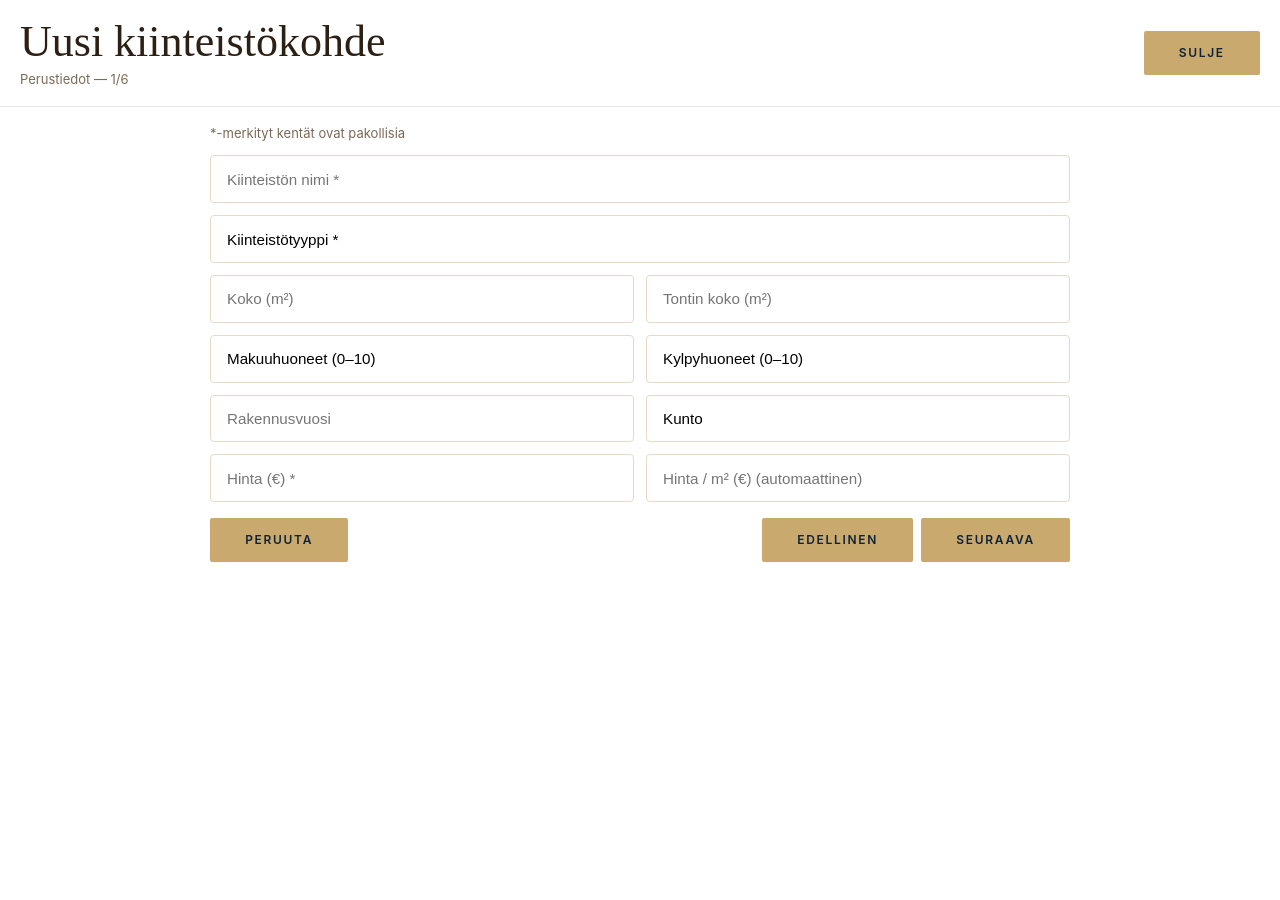
Test case: ListingWizard › auto-calculates price per m² from price and size
Step 1. Type "50" into the field with placeholder "Koko (m²)" → (422, 299), box x1=210 y1=275 x2=634 y2=323
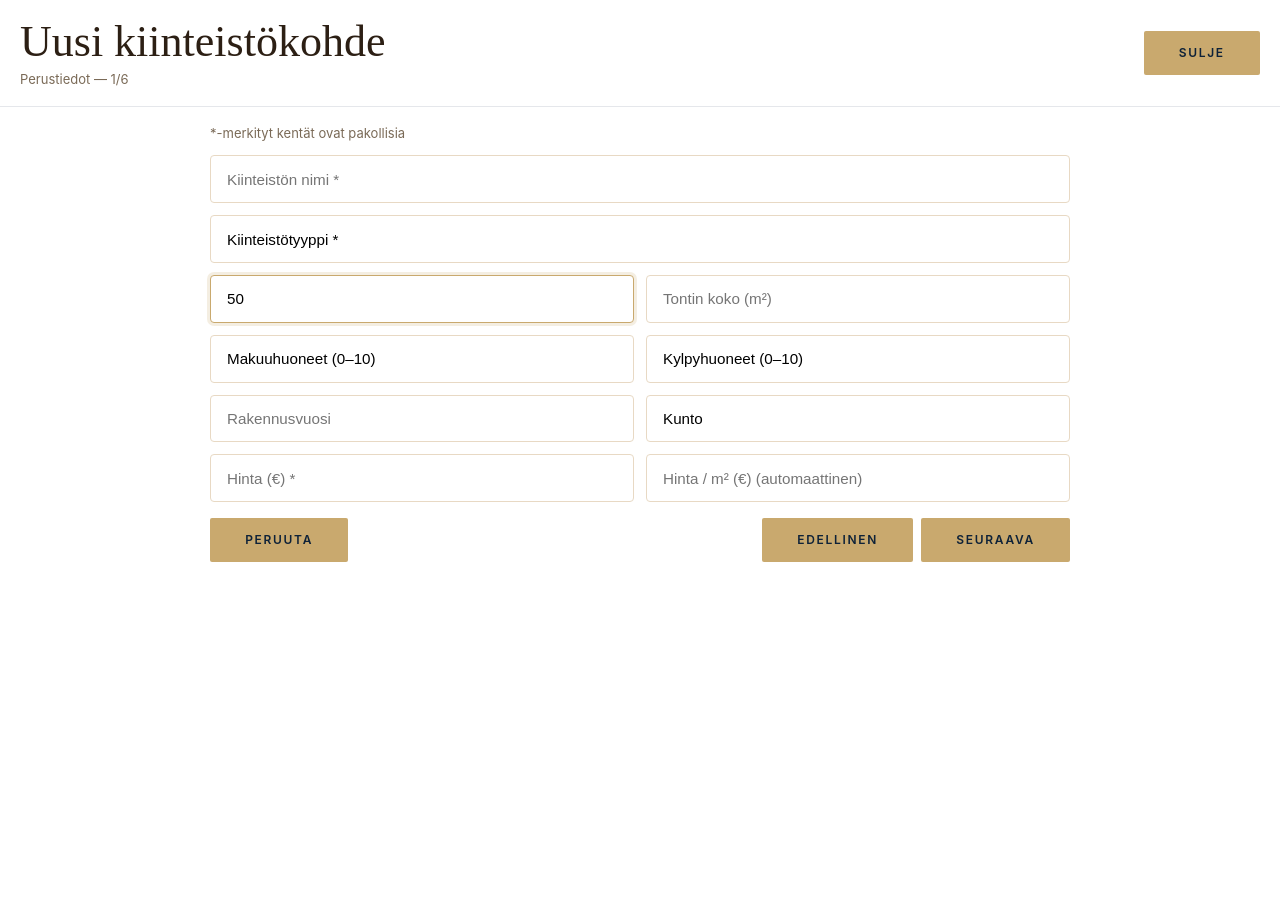
Step 2. Type "200000" into the field with placeholder "Hinta (€) *" → (422, 478), box x1=210 y1=454 x2=634 y2=502
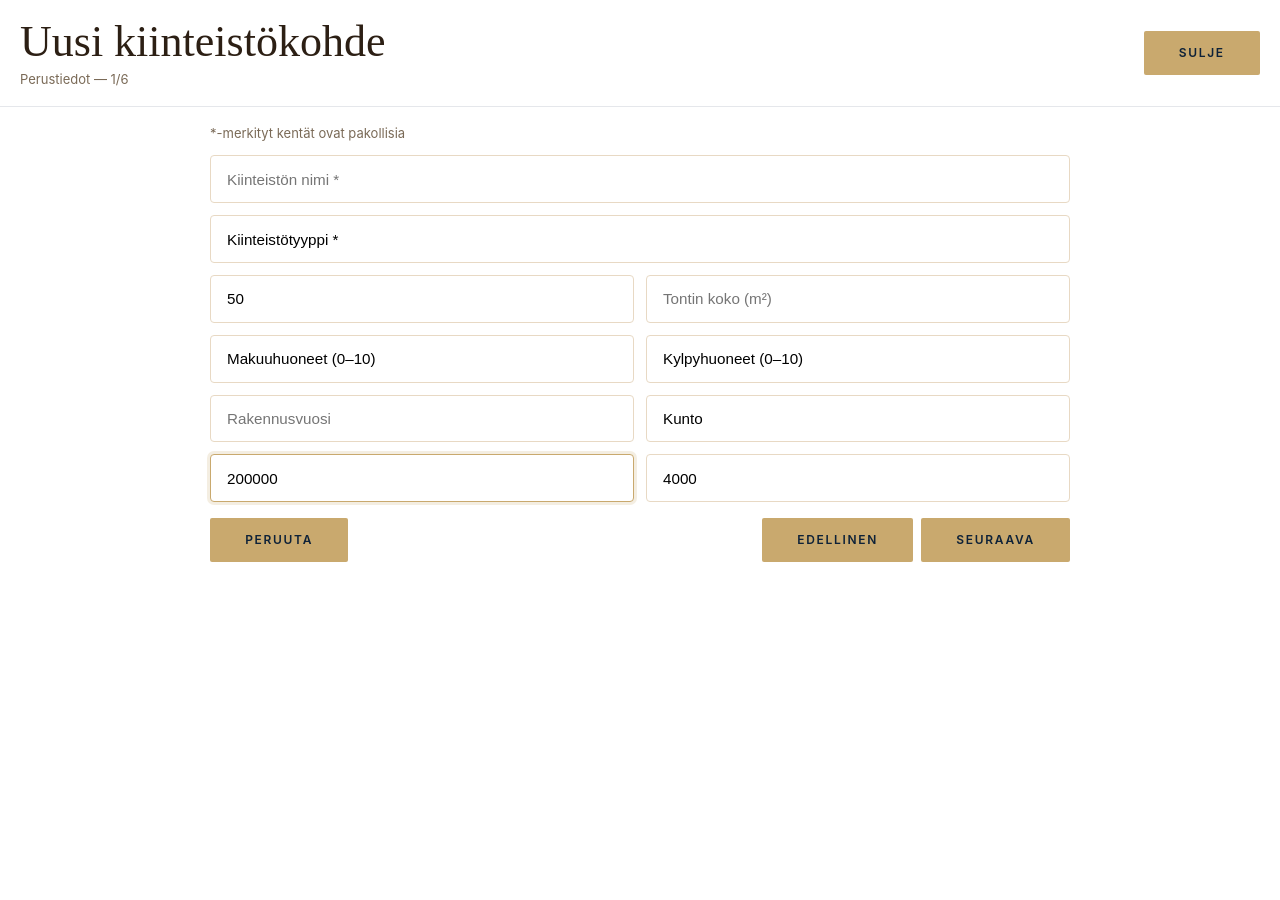
Expected: the 3rd field with placeholder "Hinta / m² (€) (automaattinen)" holds "4000", x1=646 y1=454 x2=1070 y2=502
